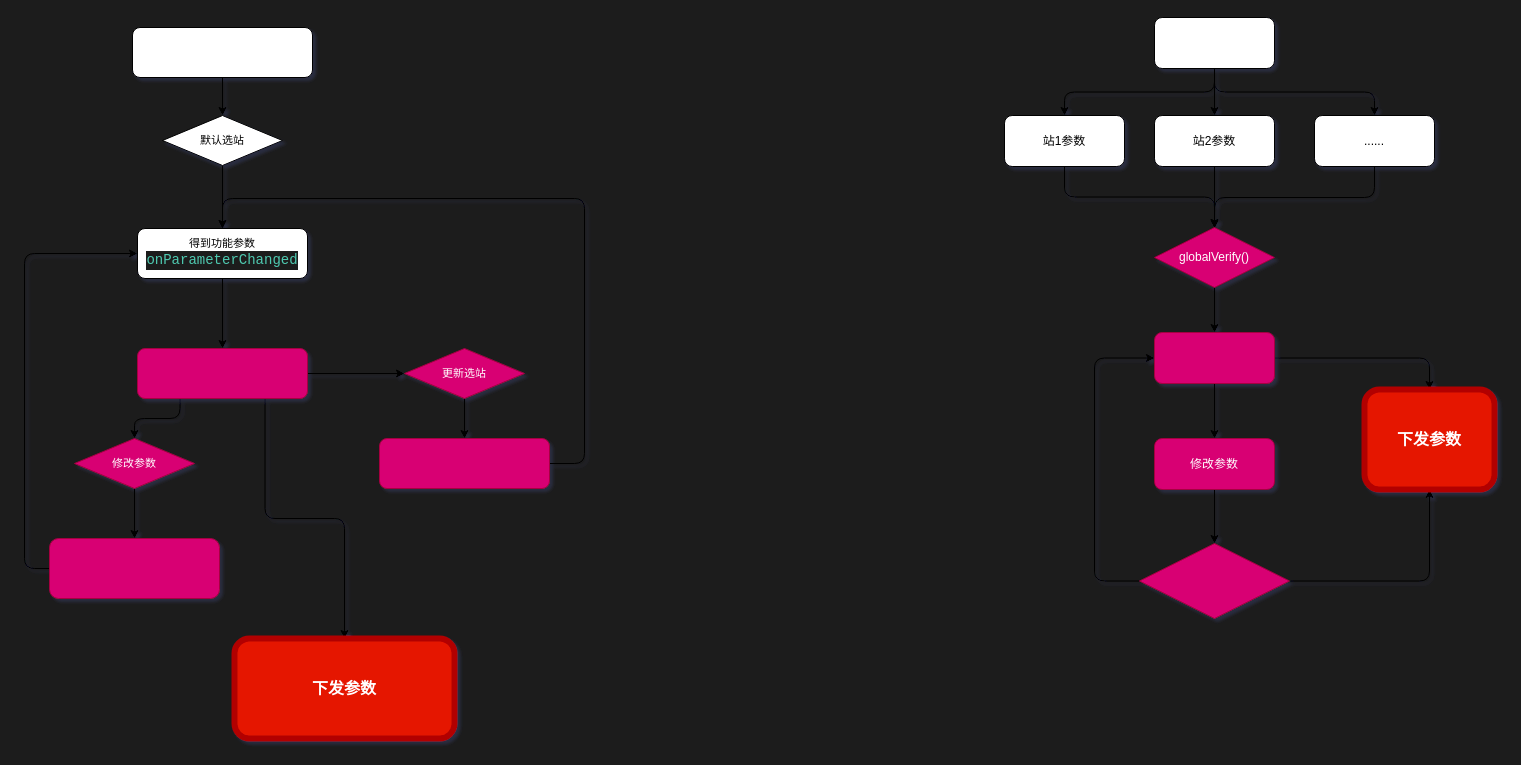
Image size: 1521x765. Some labels were removed from this diagram. Each missing label, with the box of its shape:
verifyOnChange (): (1138, 542, 1290, 618)
初始化: (1154, 16, 1274, 68)
实例化 MonitorNodeSelector: (132, 26, 312, 78)
绑定功能参数: (136, 348, 308, 398)
绑定参数: (1154, 332, 1274, 384)
调用 updateModuleSelect: (378, 438, 550, 488)
调用 updateParameter updateParameters: (48, 538, 220, 598)
